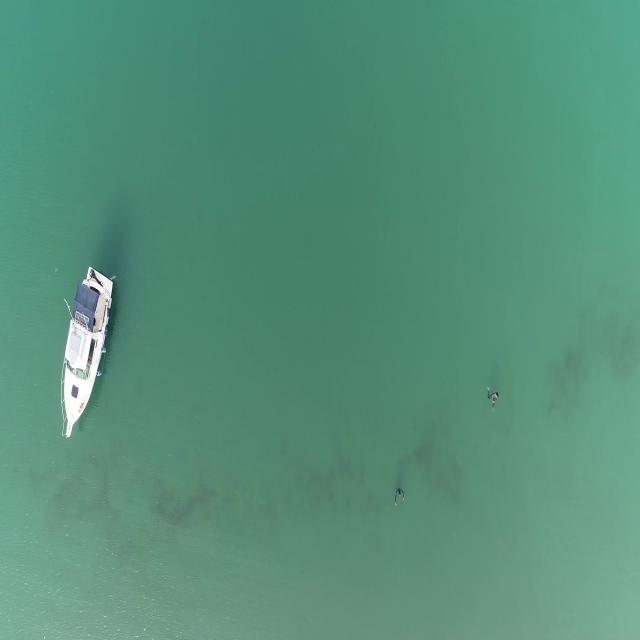boat: (56, 267, 116, 441)
person: (393, 487, 406, 510), (486, 386, 498, 409)
